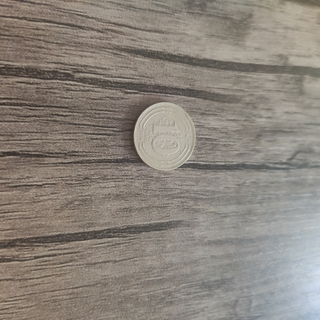10KURUS: (131, 99, 199, 172)
